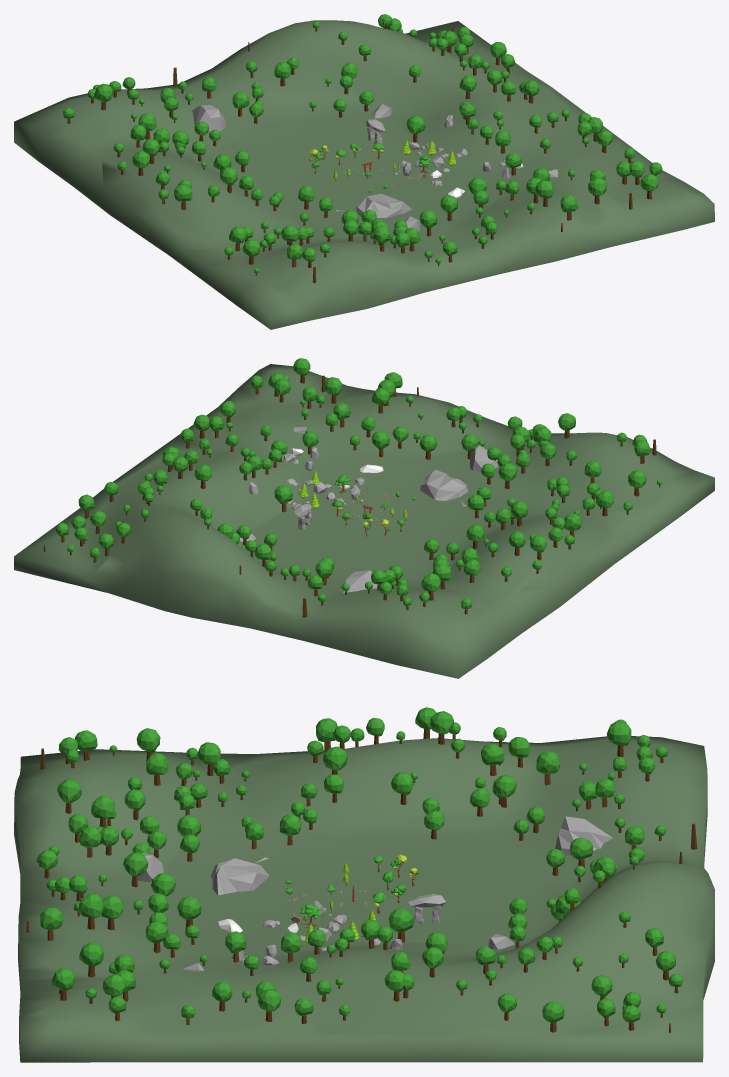
The model's file is starter-scene.glb.
The picture shows the model from 3 angles, top to bottom: view 1: azimuth 30°, elevation 25°; view 2: azimuth 150°, elevation 25°; view 3: azimuth 270°, elevation 25°; orthographic projection. The views are drawn at different scales.
Parts seen in each view (by area): view 1: Floor, Trees, Rocks; view 2: Floor, Trees, Rocks; view 3: Floor, Trees, Rocks, Cube.
Boxes of the visible parts, bbox=[...] form: Floor: bbox=[14, 20, 714, 329]; Trees: bbox=[63, 14, 662, 283]; Rocks: bbox=[192, 104, 558, 233]; Floor: bbox=[14, 364, 714, 678]; Trees: bbox=[43, 358, 662, 617]; Rocks: bbox=[236, 427, 498, 593]; Floor: bbox=[14, 736, 714, 1062]; Trees: bbox=[26, 707, 697, 1032]; Rocks: bbox=[137, 816, 612, 971]; Cube: bbox=[408, 893, 445, 924].
Size of the model in its own units: 65.14 by 10.12 by 66.38.
Materials: 30 (1 with a texture image).
